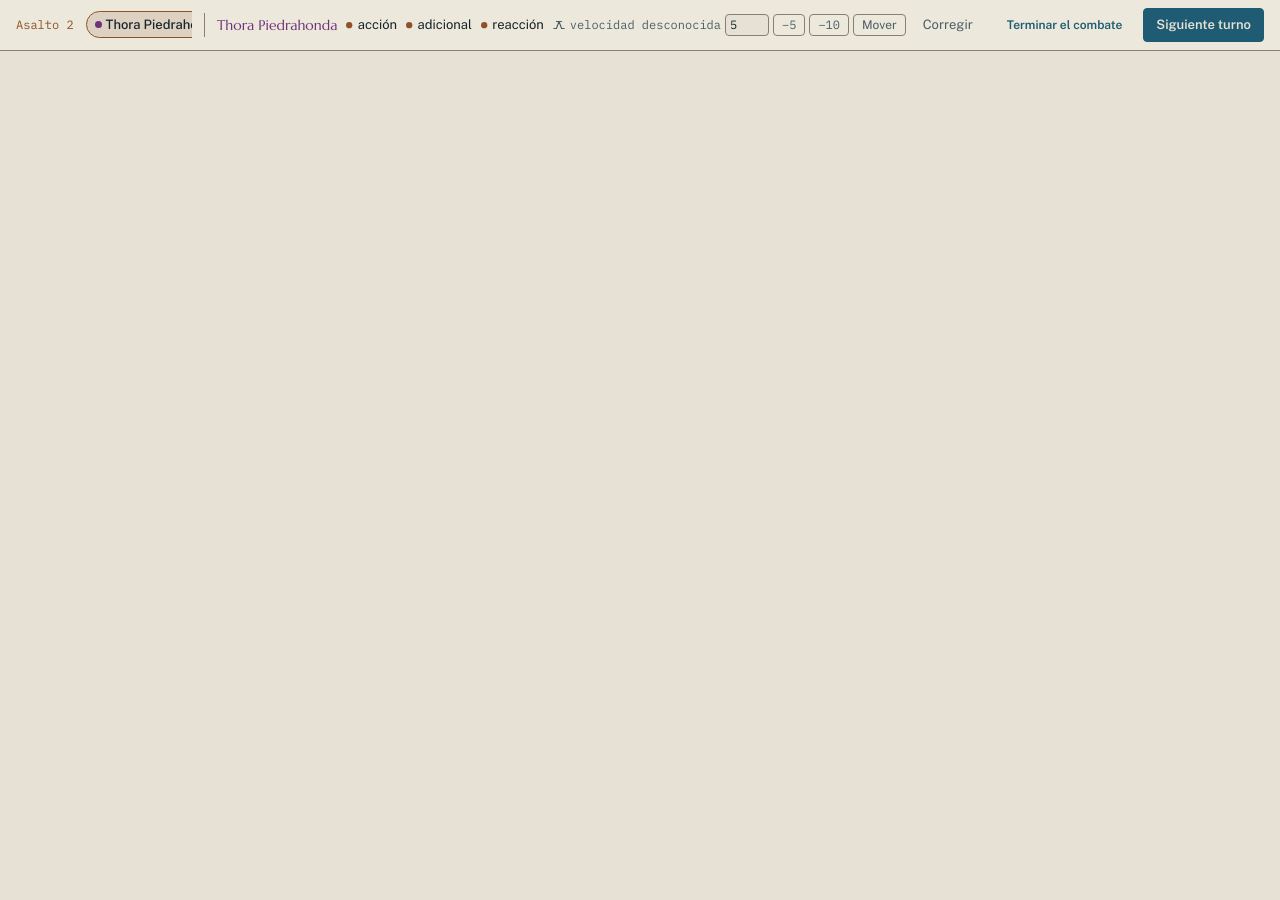
Test case: la propuesta de experiencia al terminar el combate › al dar la experiencia el bloque se va y queda la frase de lo que se dio
The width and height of the screenshot is (1280, 900).
What coordinates should you click on to do the following:
click the button "Terminar el combate"
I would click on:
 (1065, 25)
Its box is [994,9,1135,41].
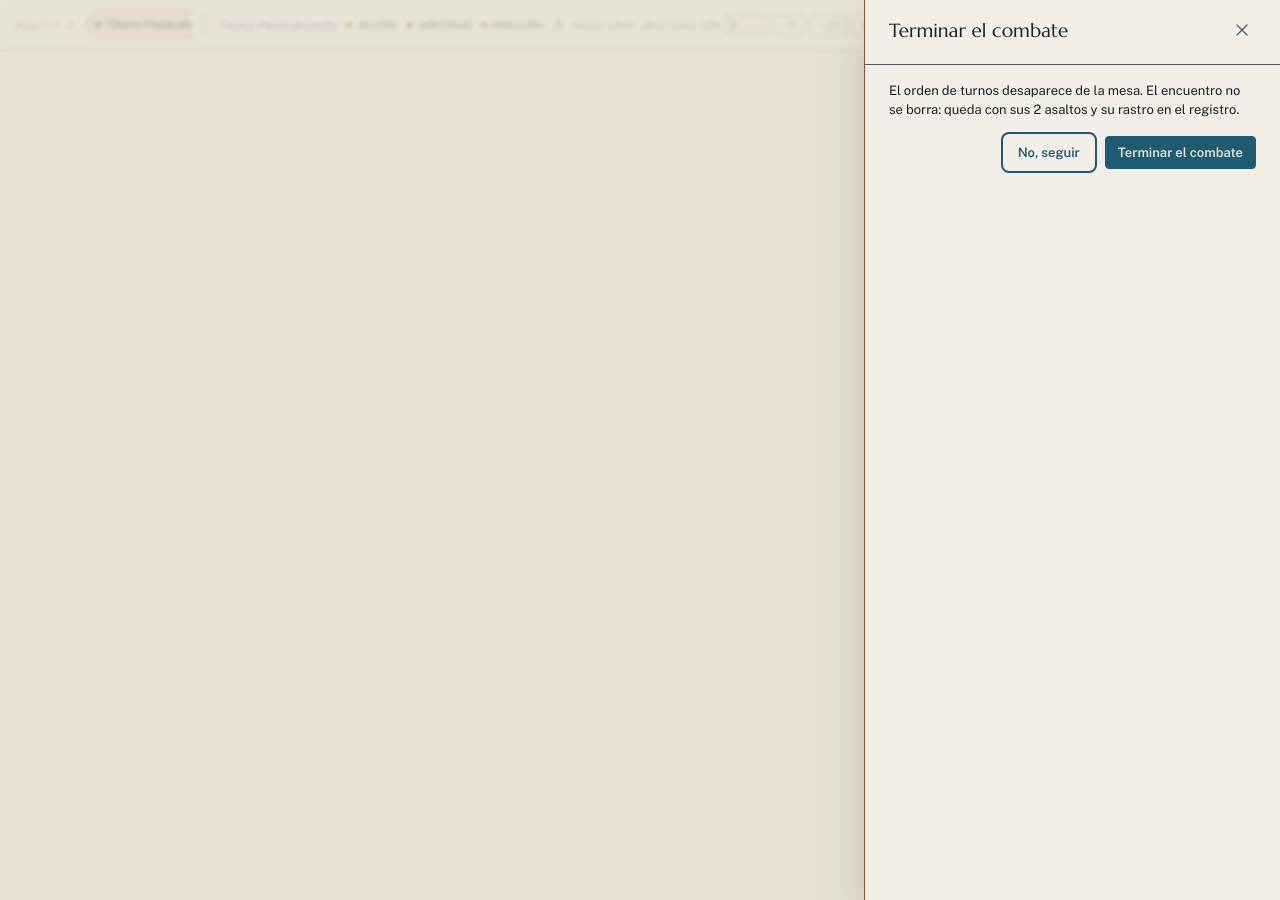
What coordinates should you click on to do the following:
click the button "Terminar el combate"
I would click on:
 (1180, 153)
Its box is [1105,136,1256,169].
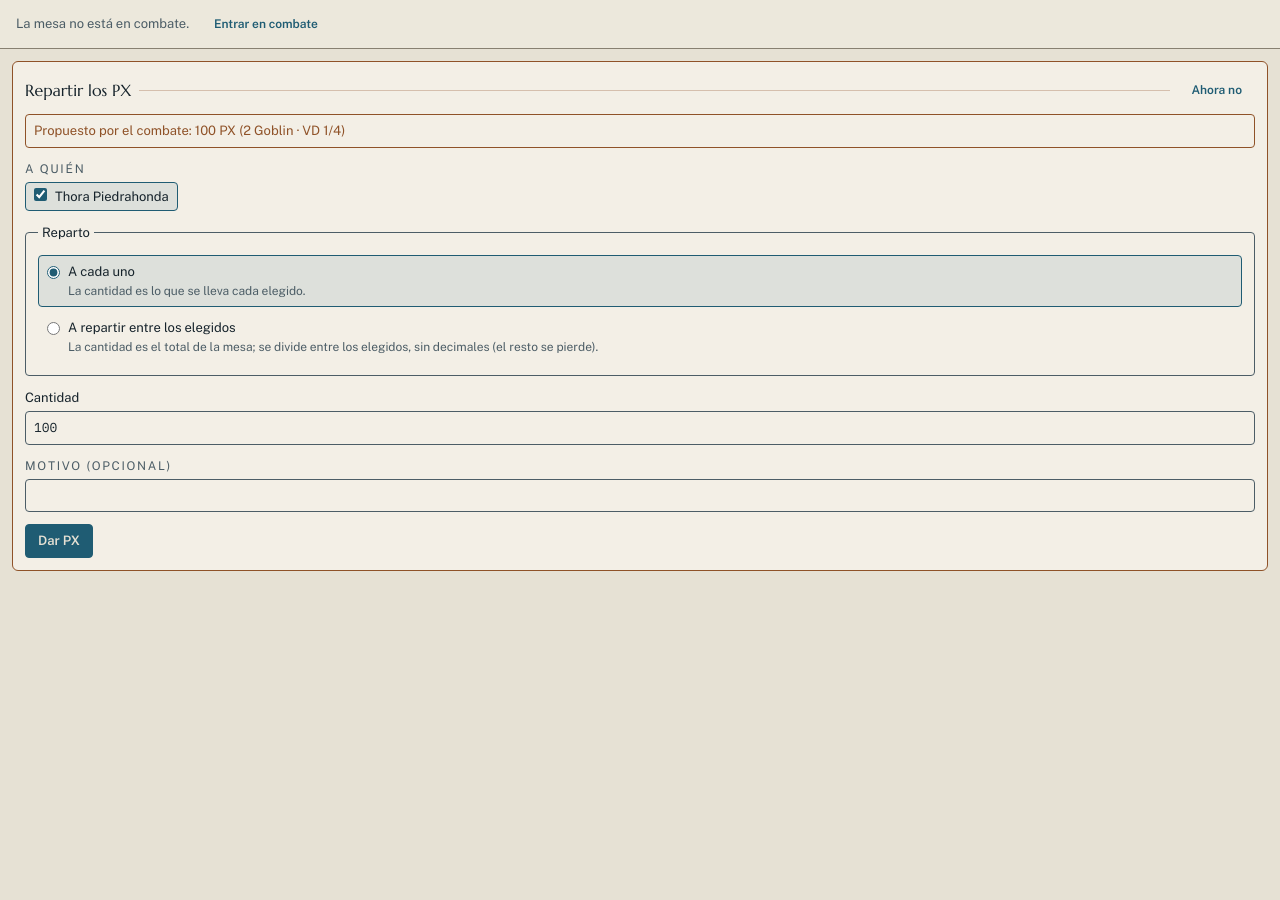
Expected: the checkbox labelled "Thora Piedrahonda" is checked, [34,188,47,200]
What coordinates should you click on to do the following:
click the button "Dar PX"
I would click on:
 (59, 541)
Its box is [25,524,93,558].
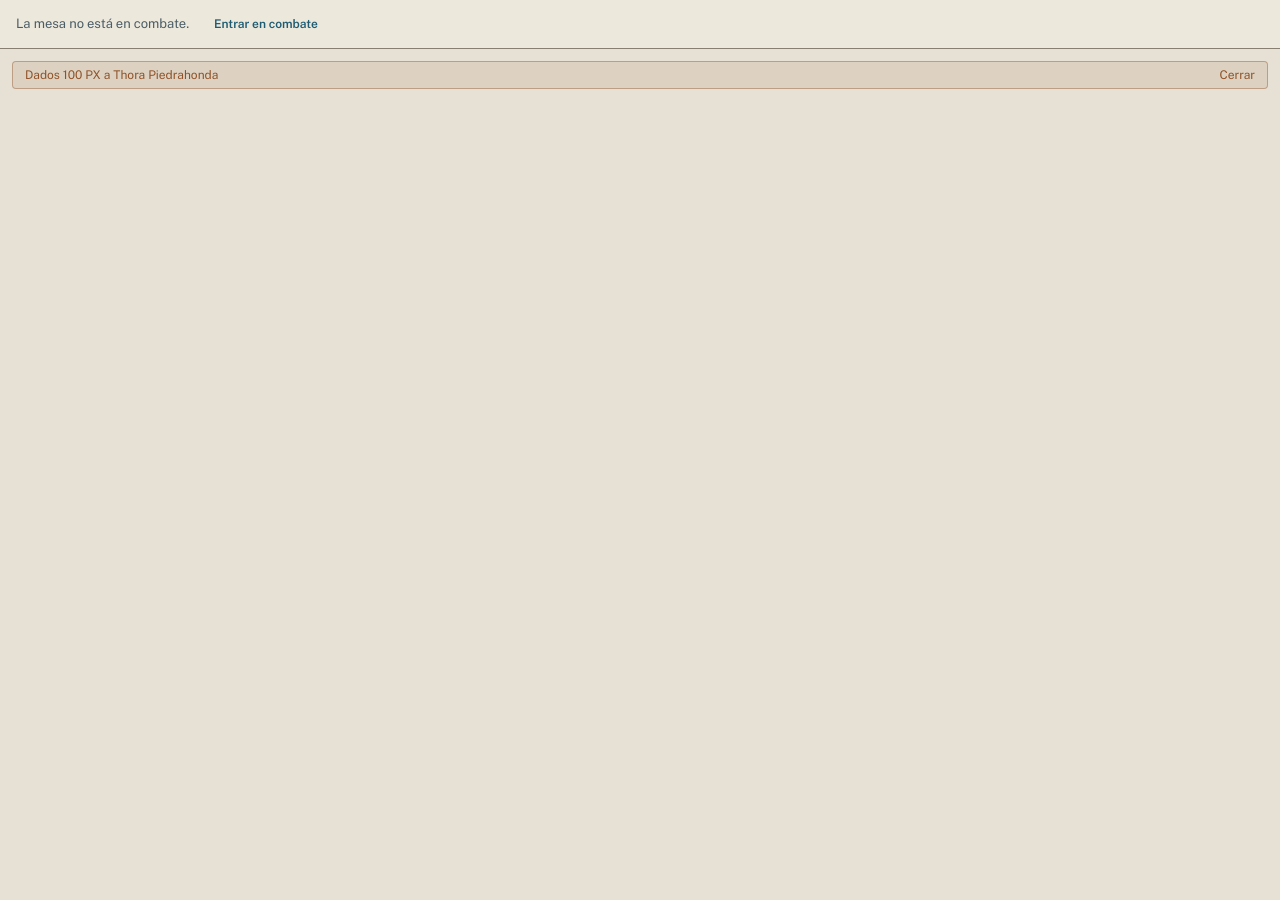
Expected: the message shows "Dados 100 PX a Thora Piedrahonda", [25,68,218,82]
Expected: the heading "Repartir los PX" is gone
